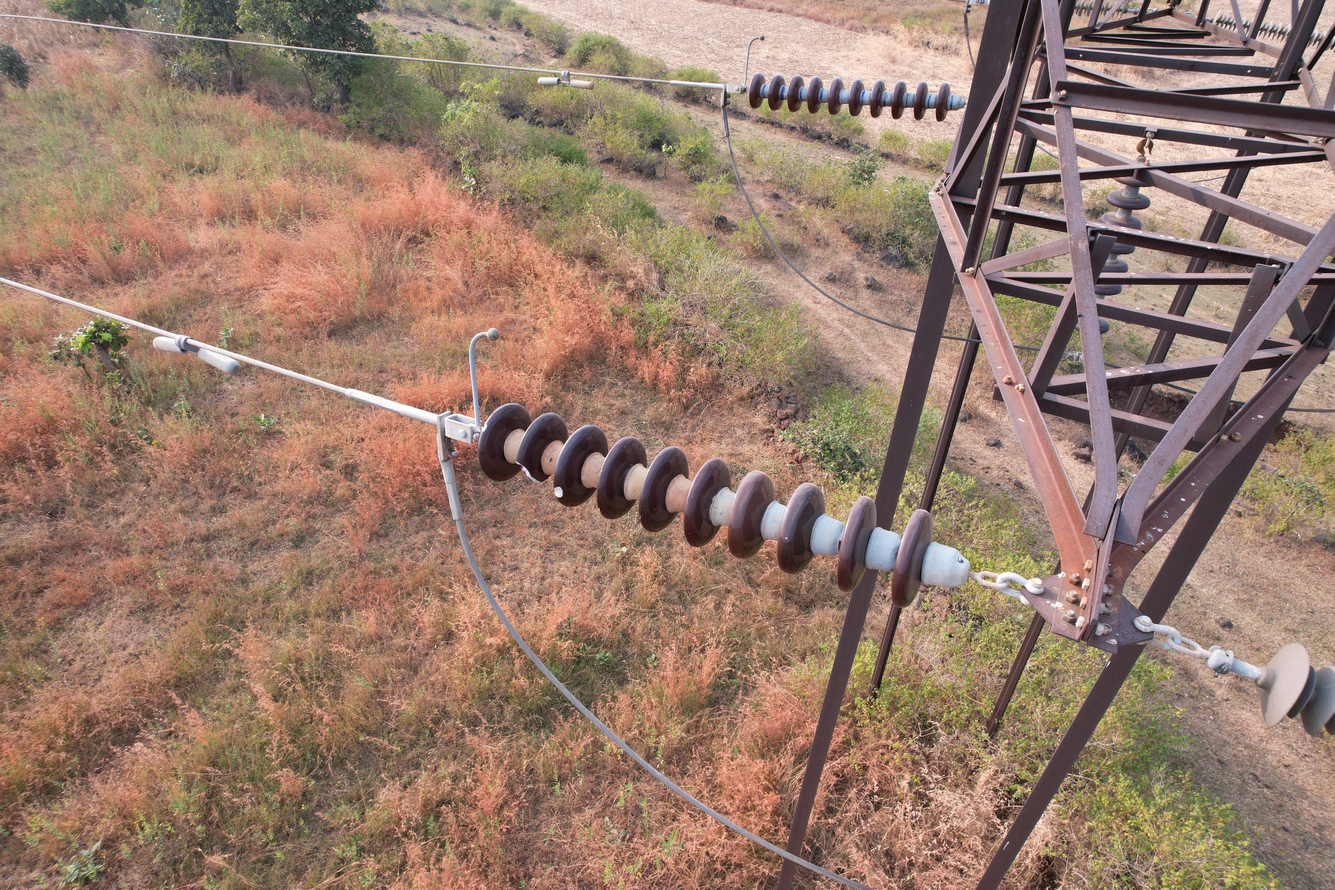broken_insulator: (506, 432, 543, 493), (547, 448, 576, 510)
